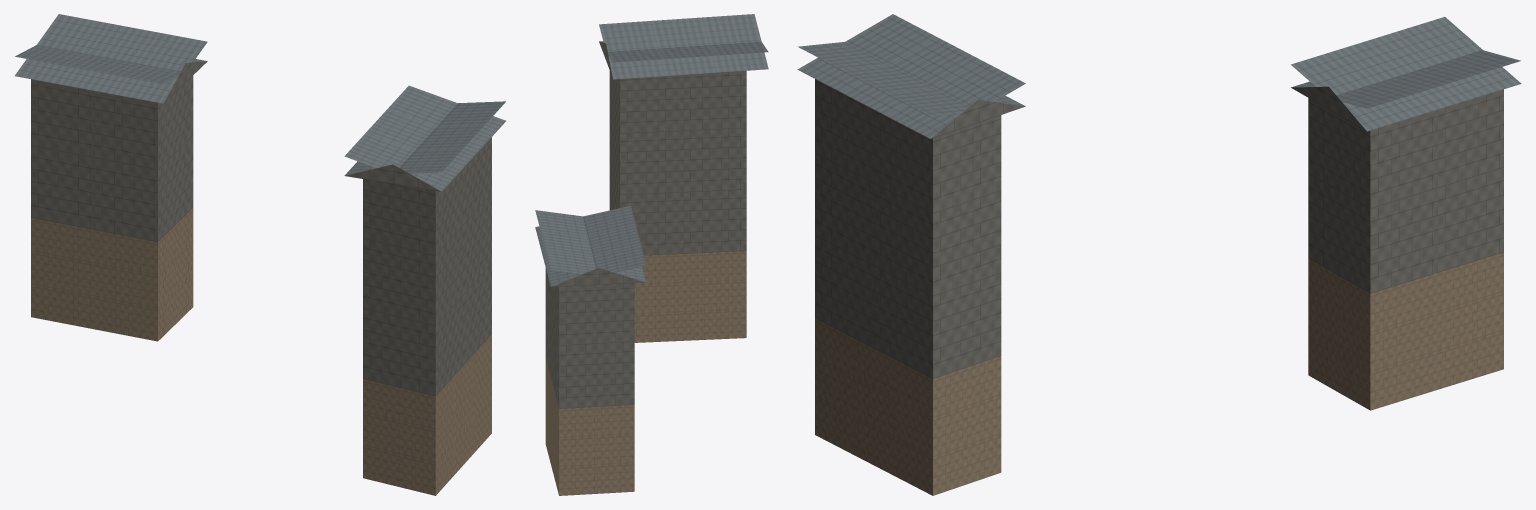
The model's file is bld_c-4_17_538.gltf.
The picture shows the model from 3 angles, left to right: view 1: azimuth 30°, elevation 25°; view 2: azimuth 150°, elevation 25°; view 3: azimuth 270°, elevation 25°; orthographic projection. The views are drawn at different scales.
Parts seen in each view (by area): view 1: bld_c-4_17_538; view 2: bld_c-4_17_538; view 3: bld_c-4_17_538.
Boxes of the visible parts, <box> form: bld_c-4_17_538: <box>15,14,505,495</box>; bld_c-4_17_538: <box>535,14,768,495</box>; bld_c-4_17_538: <box>797,14,1521,495</box>.
Bounding box in the file's own units: 14.67 × 16.9 × 28.63.
4 materials, 4 textured.
